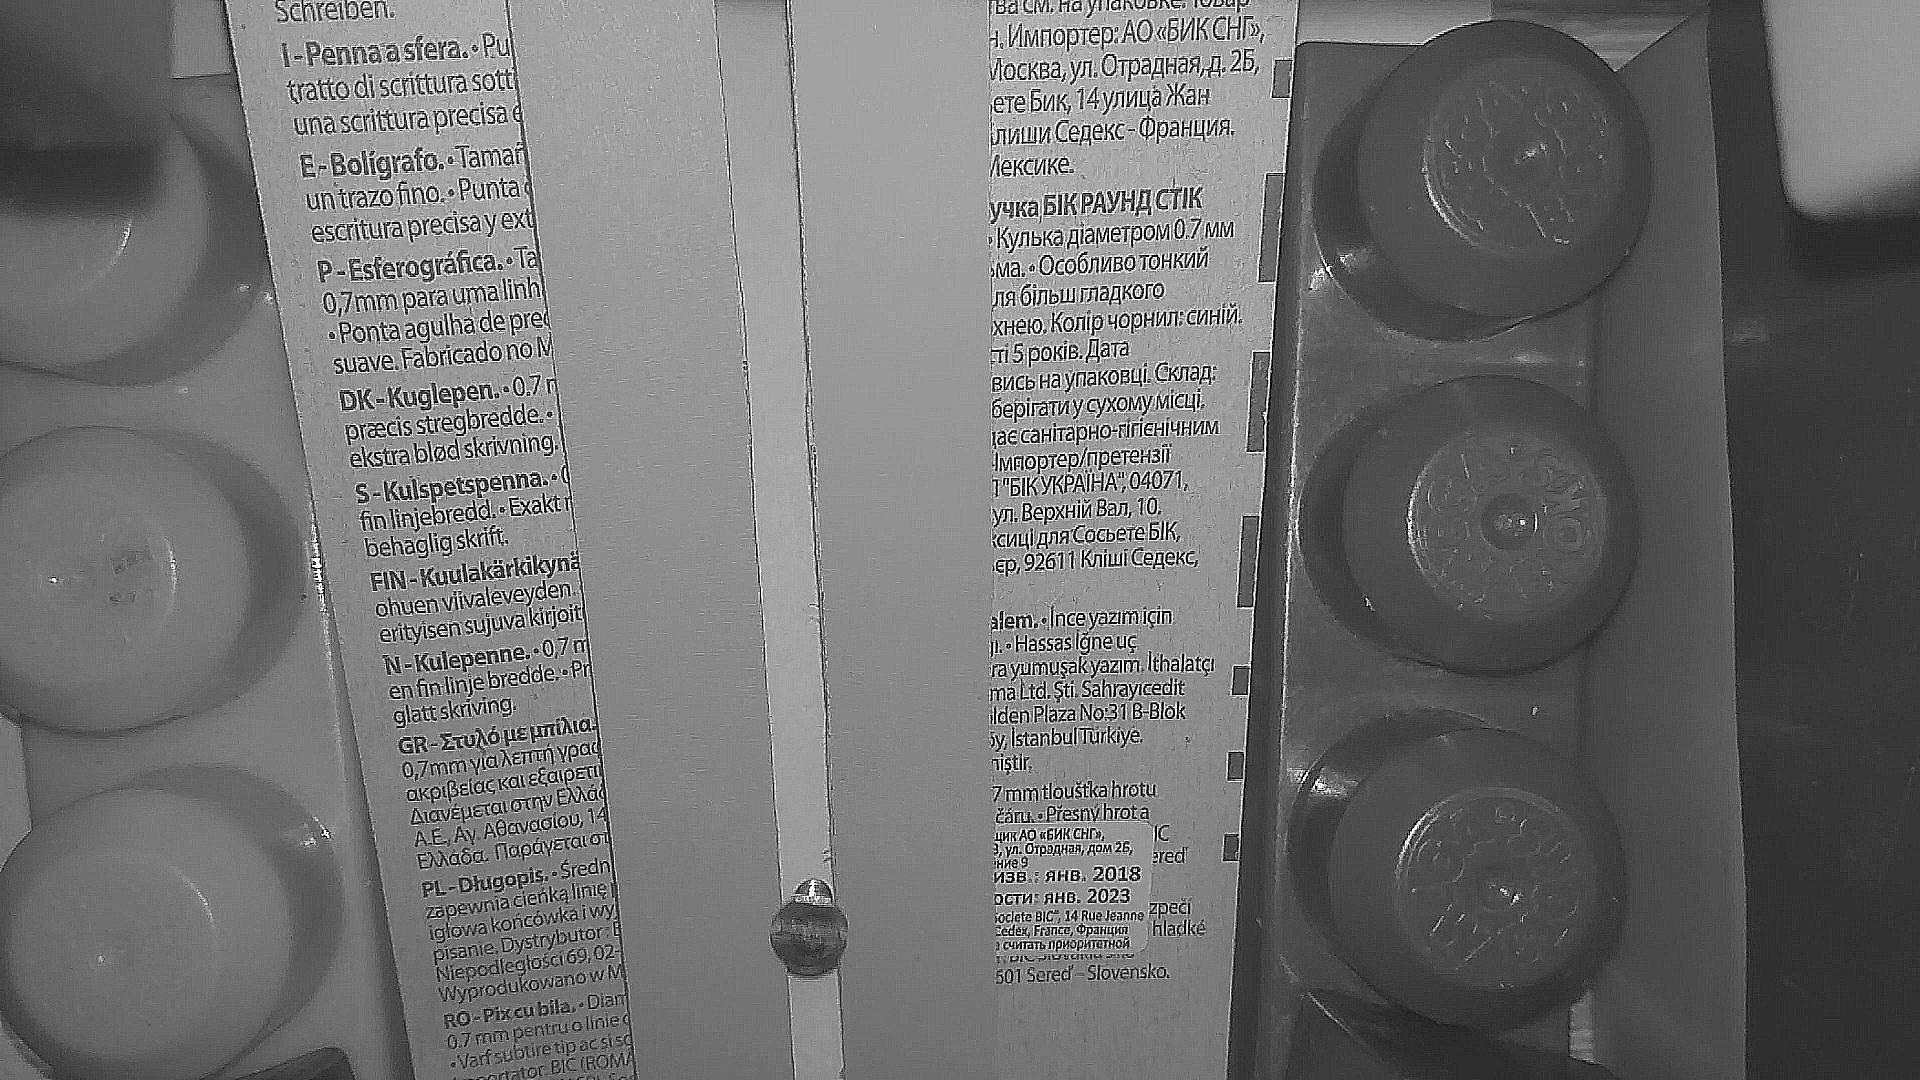i: (770, 894, 849, 978)
